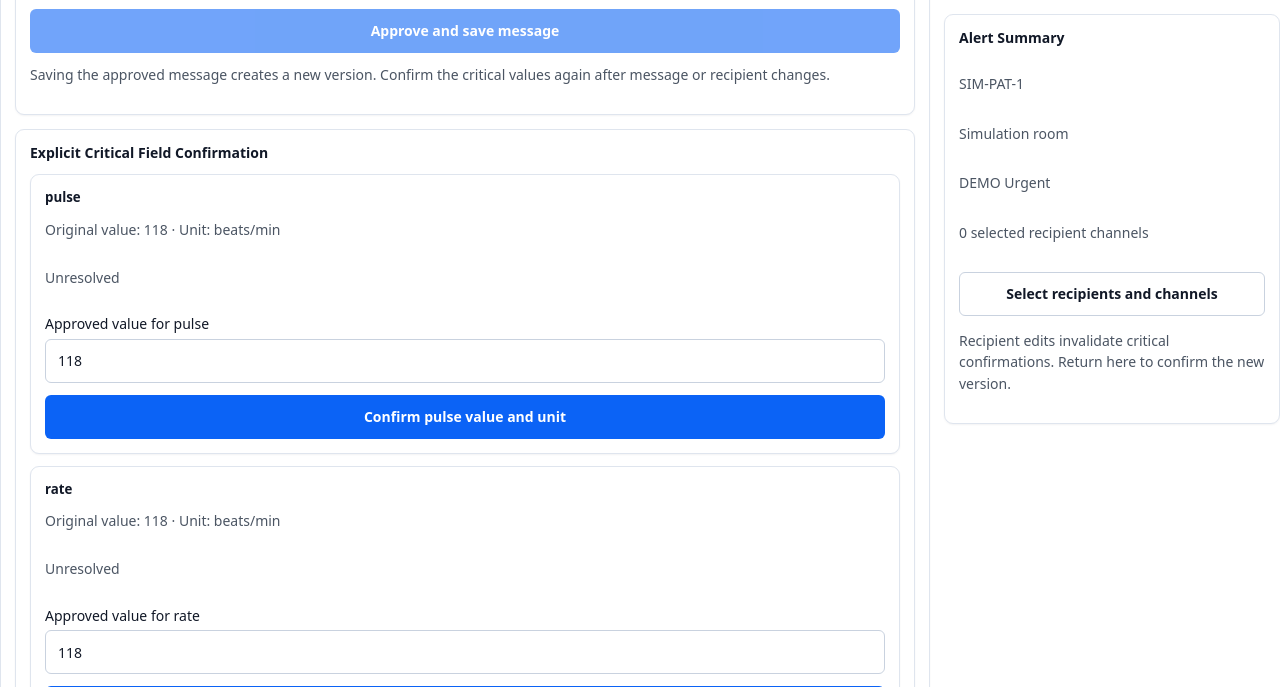
confirming one field preserves unsaved normalized edits for another
The image size is (1280, 687).
(page scrolled)
Replace the text in the field labelled "Approved value for pulse" with "119" at (465, 361), box 45,339 -> 885,383
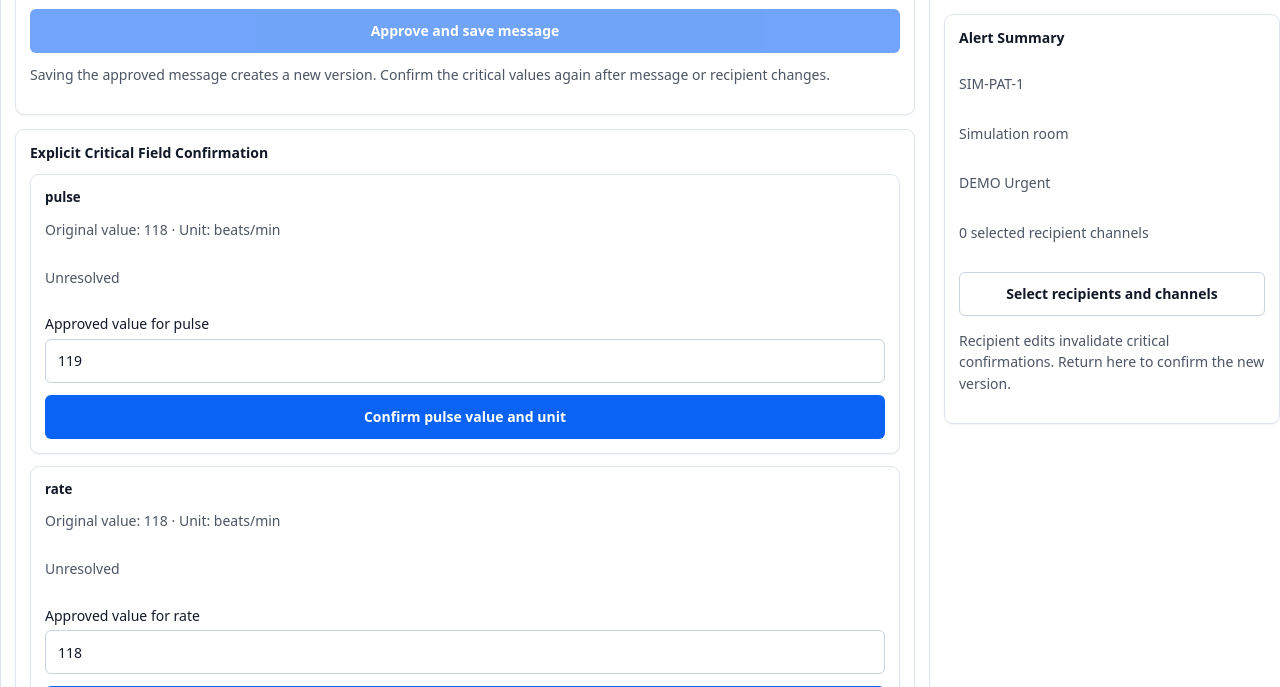
Replace the text in the field labelled "Approved value for rate" with "120" at (465, 652), box 45,630 -> 885,674
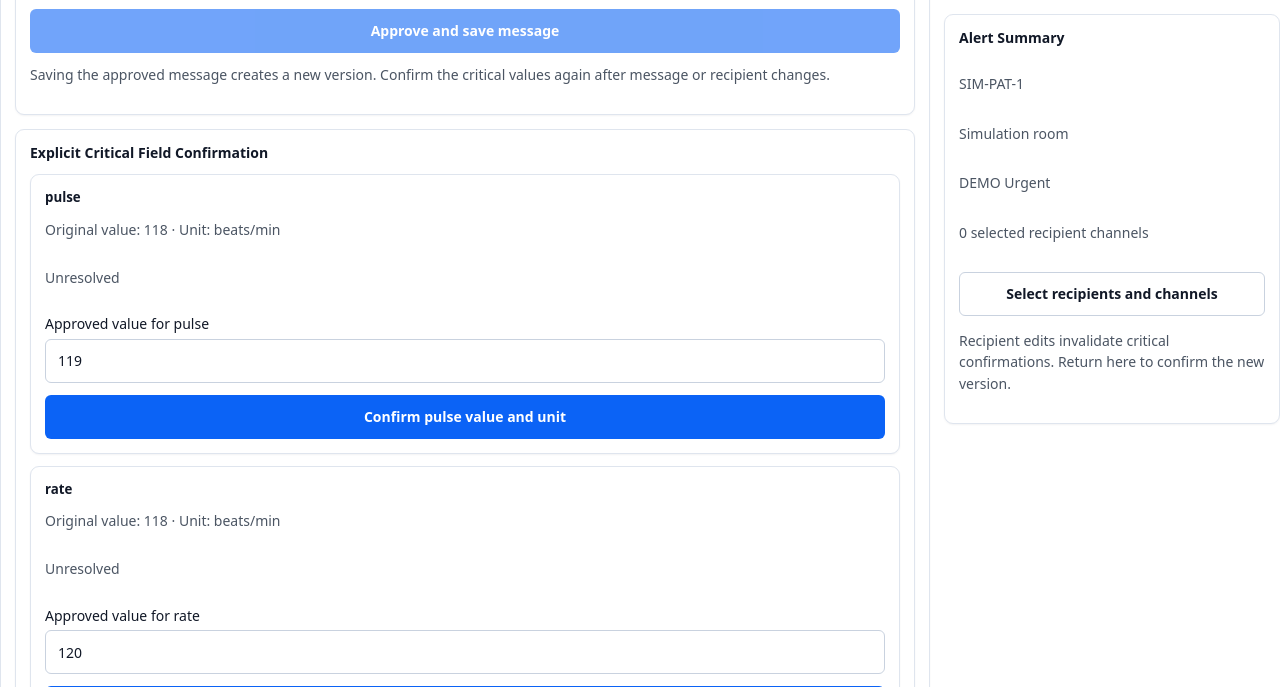
Click the button "Confirm pulse value and unit" at (465, 417), box 45,395 -> 885,439
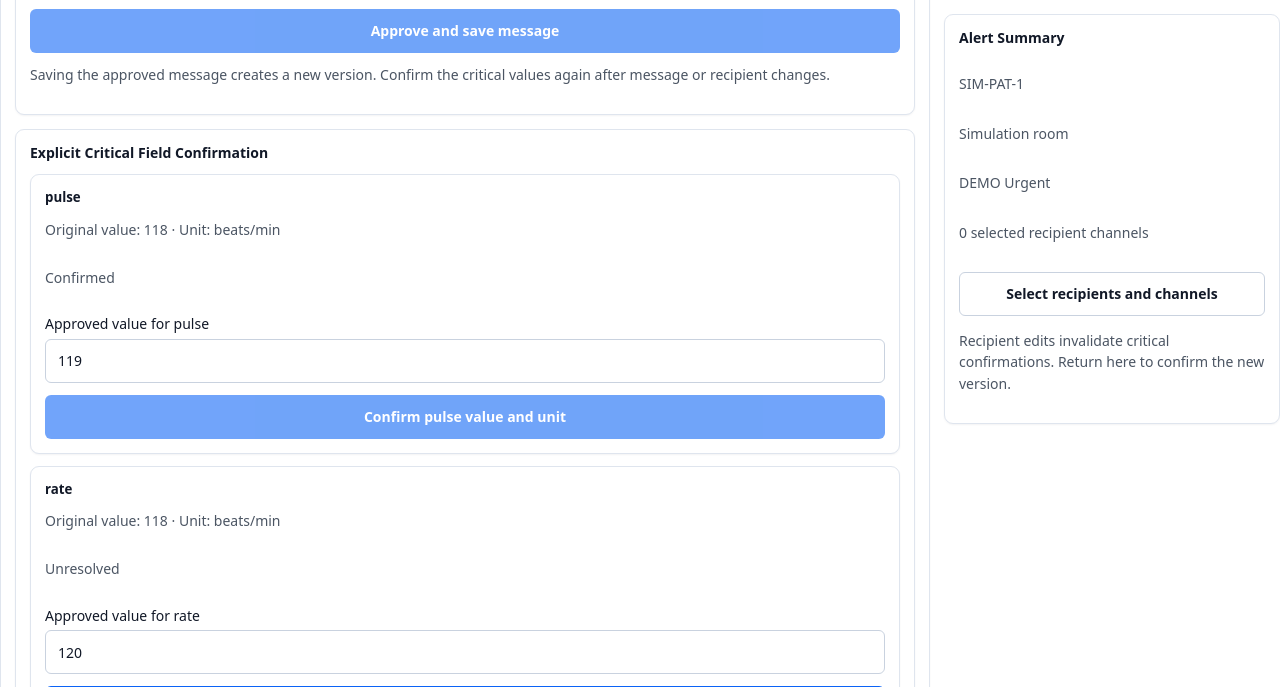
Check: the text "Confirmed" is shown, box 45,268 -> 115,287
